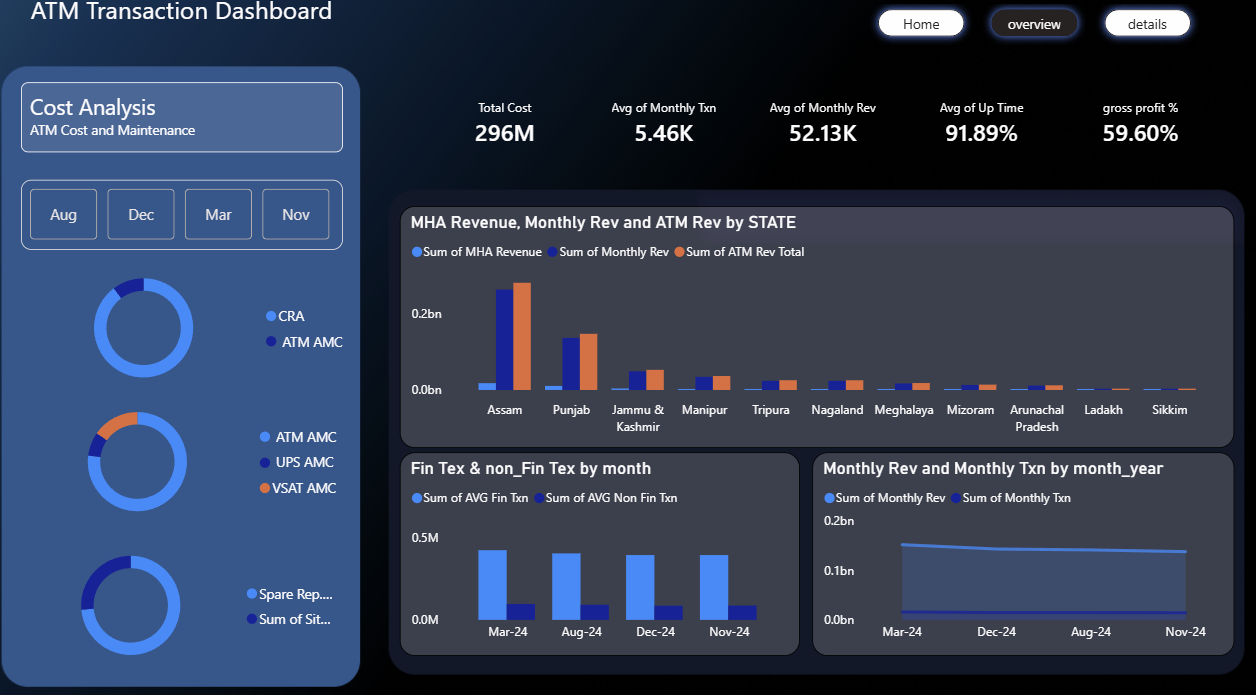

Layout of this report page (visuals, bound fields, positions):
{"tool":"powerbi","page":{"name":"overview ","canvas":[1280,720],"ordinal":1},"visuals":[{"type":"donutChart","fields":{"Y":["Sum(Sheet1.CRA)","Sum(Sheet1.ATM AMC)"]},"box":[45.3,274.4,333.4,131.7],"z":0},{"type":"donutChart","fields":{"Y":["Sum(Sheet1.ATM AMC)","Sum(Sheet1.UPS AMC)","Sum(Sheet1.VSAT AMC)"]},"box":[39.8,406.2,333.4,131.7],"z":1000},{"type":"donutChart","fields":{"Y":["Sum(Sheet1.Spare Rep.(UPS))","Sum(Sheet1.Site Maint (Non Asset))"]},"box":[39.8,547.5,333.4,131.7],"z":2000},{"type":"clusteredColumnChart","title":" MHA Revenue, Monthly Rev and  ATM Rev  by STATE","fields":{"Y":["Sum(Sheet1.MHA Revenue)","Sum(Sheet1.Monthly Rev)","Sum(Sheet1.ATM Rev Total)"],"Category":["Sheet1.STATE"]},"box":[421.3,220.9,819.2,237.4],"z":3000},{"type":"clusteredColumnChart","title":"Fin Tex & non_Fin Tex by month","fields":{"Y":["Sum(Sheet1.AVG Fin Txn)","Sum(Sheet1.AVG Non Fin Txn)"],"Category":["Sheet1.month_year"]},"box":[421.3,462.4,392.5,200.3],"z":4000},{"type":"areaChart","title":"Monthly Rev and  Monthly Txn by month_year","fields":{"Y":["Sum(Sheet1.Monthly Rev)","Sum(Sheet1.Monthly Txn)"],"Category":["Sheet1.month_year"]},"box":[826.1,462.4,414.4,200.3],"z":5000},{"type":"advancedSlicerVisual","fields":{"Values":["Sheet1.short_month"]},"box":[49.4,194.9,315.6,68.6],"z":6000},{"type":"textbox","box":[49.4,98.8,315.6,68.6],"z":7000},{"type":"cardVisual","fields":{"Data":["Sum(Sheet1. Total Cost  )","Avg(Sheet1.Monthly Txn)","Avg(Sheet1.Monthly Rev)","Avg(Sheet1.Up Time)","Sheet1.gross profit percentage"]},"box":[433.6,83.7,806.9,111.1],"z":8000},{"type":"pageNavigator","box":[882.5,20,325,43.8],"z":9000},{"type":"textbox","box":[40,7.1,332.9,67.1],"z":10000}]}

Visuals, with their boxes in screenshot pixels (x1, y1, x2, y2), scaled from the page's 1280x720 canvas onto the 1256x695 screenshot:
donutChart - Sum(Sheet1.CRA) x Sum(Sheet1.ATM AMC): region(44, 265, 372, 392)
donutChart - Sum(Sheet1.ATM AMC) x Sum(Sheet1.UPS AMC): region(39, 392, 366, 519)
donutChart - Sum(Sheet1.Spare Rep.(UPS)) x Sum(Sheet1.Site Maint (Non Asset)): region(39, 528, 366, 656)
" MHA Revenue, Monthly Rev and  ATM Rev  by STATE" clusteredColumnChart: region(413, 213, 1217, 442)
"Fin Tex & non_Fin Tex by month" clusteredColumnChart: region(413, 446, 799, 640)
"Monthly Rev and  Monthly Txn by month_year" areaChart: region(811, 446, 1217, 640)
advancedSlicerVisual - Sheet1.short_month: region(48, 188, 358, 254)
textbox: region(48, 95, 358, 162)
cardVisual - Sum(Sheet1. Total Cost  ) x Avg(Sheet1.Monthly Txn): region(425, 81, 1217, 188)
pageNavigator: region(866, 19, 1185, 62)
textbox: region(39, 7, 366, 72)
